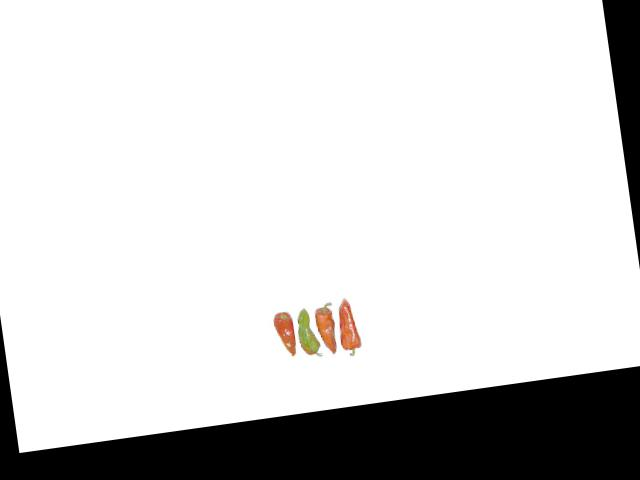bell_pepper: (267, 309, 299, 363)
